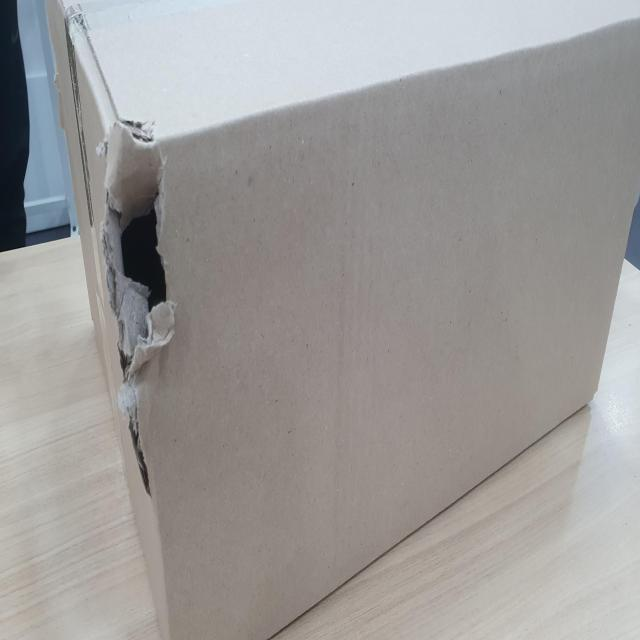damaged: (96, 152, 181, 449)
